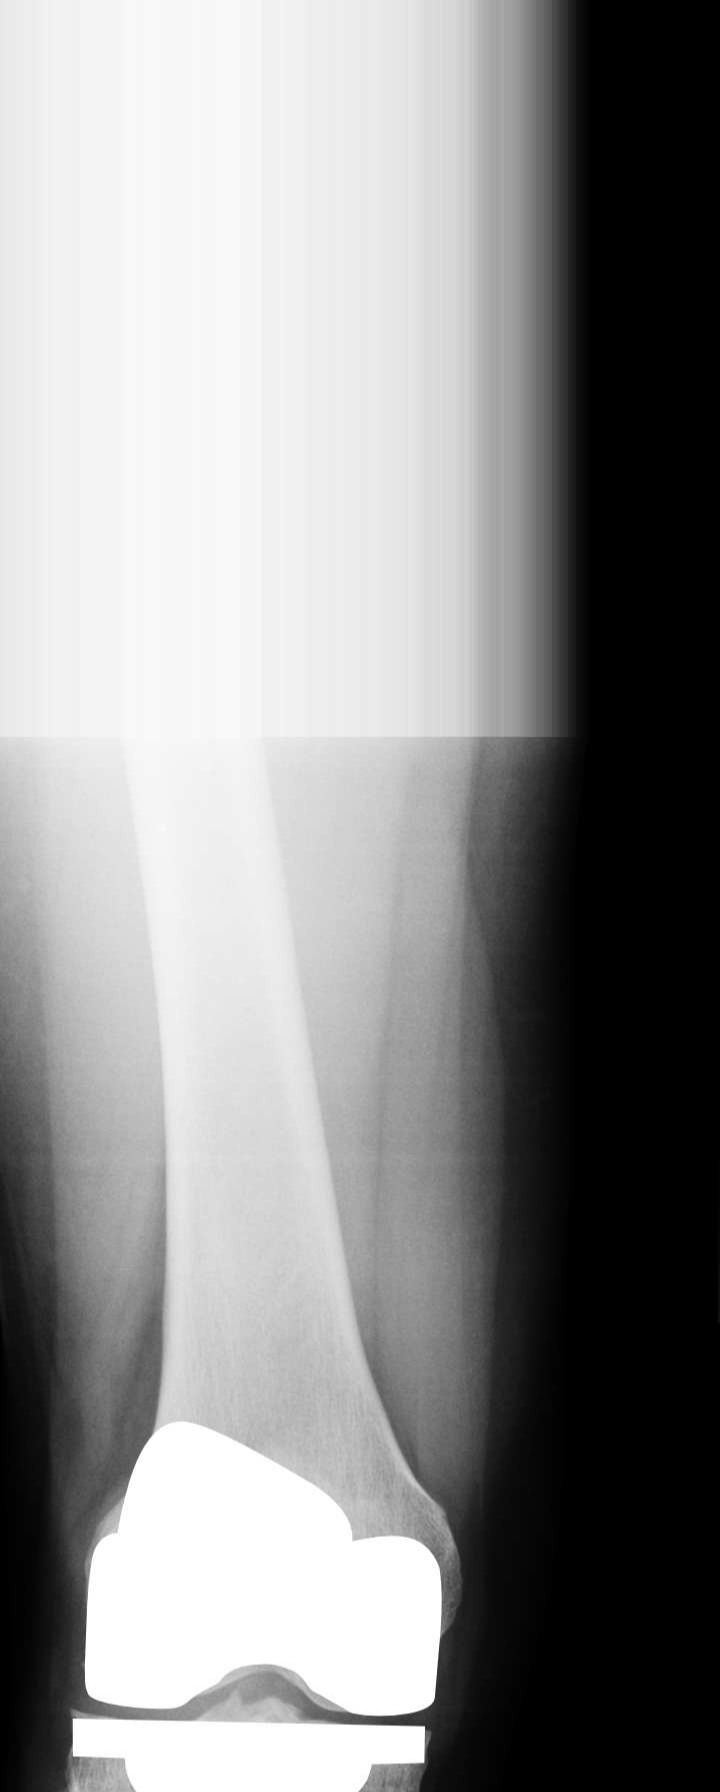Knee-Triathlon-Stryker: (59, 1413, 450, 1792)
